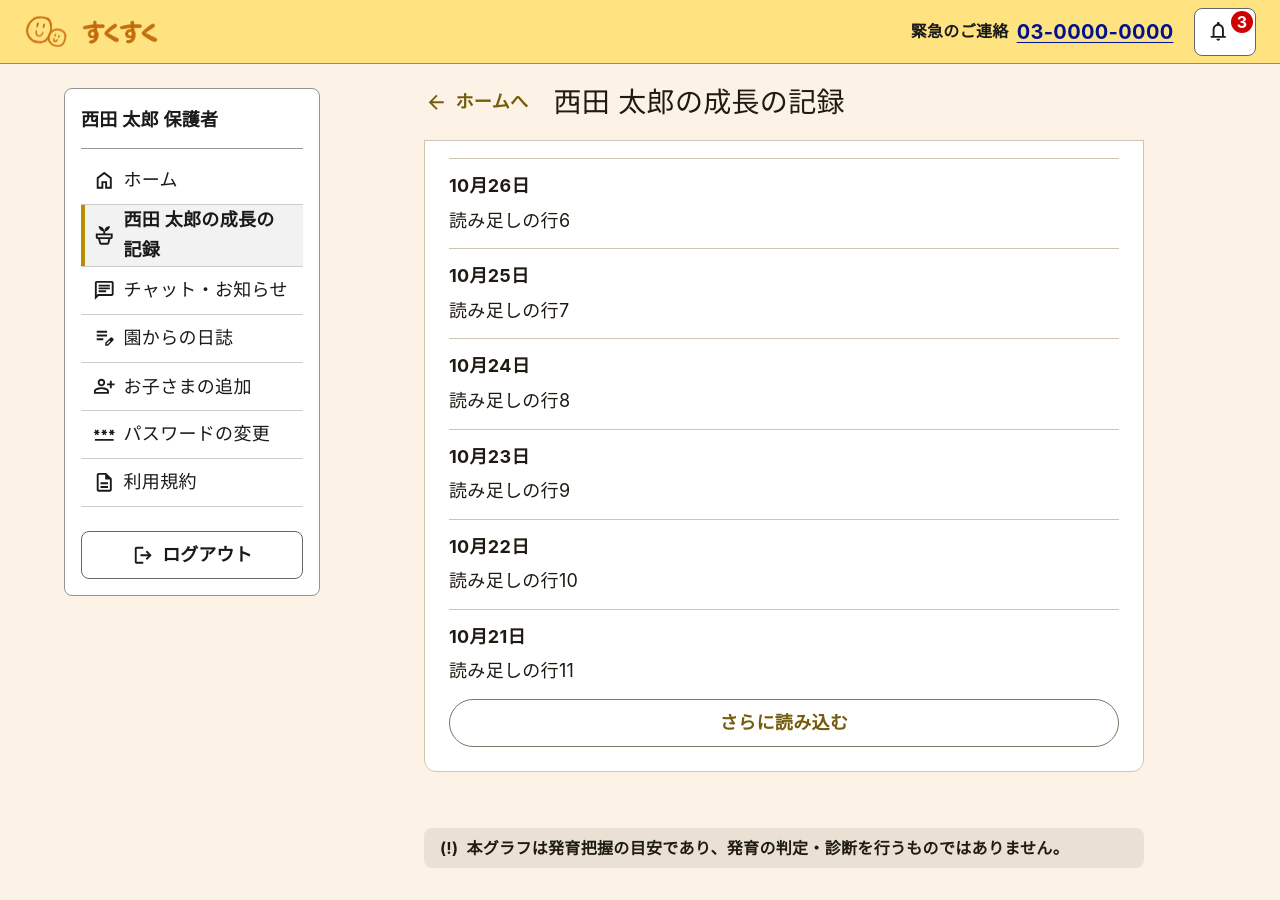
Scenario: 成長の記録画面（保護者） › 12件を超えると「さらに読み込む」で下に足し、続きが無くなると消える
This screenshot has width=1280, height=900.
(page scrolled)
Click the button "さらに読み込む" at (784, 723), box x1=449 y1=699 x2=1119 y2=747
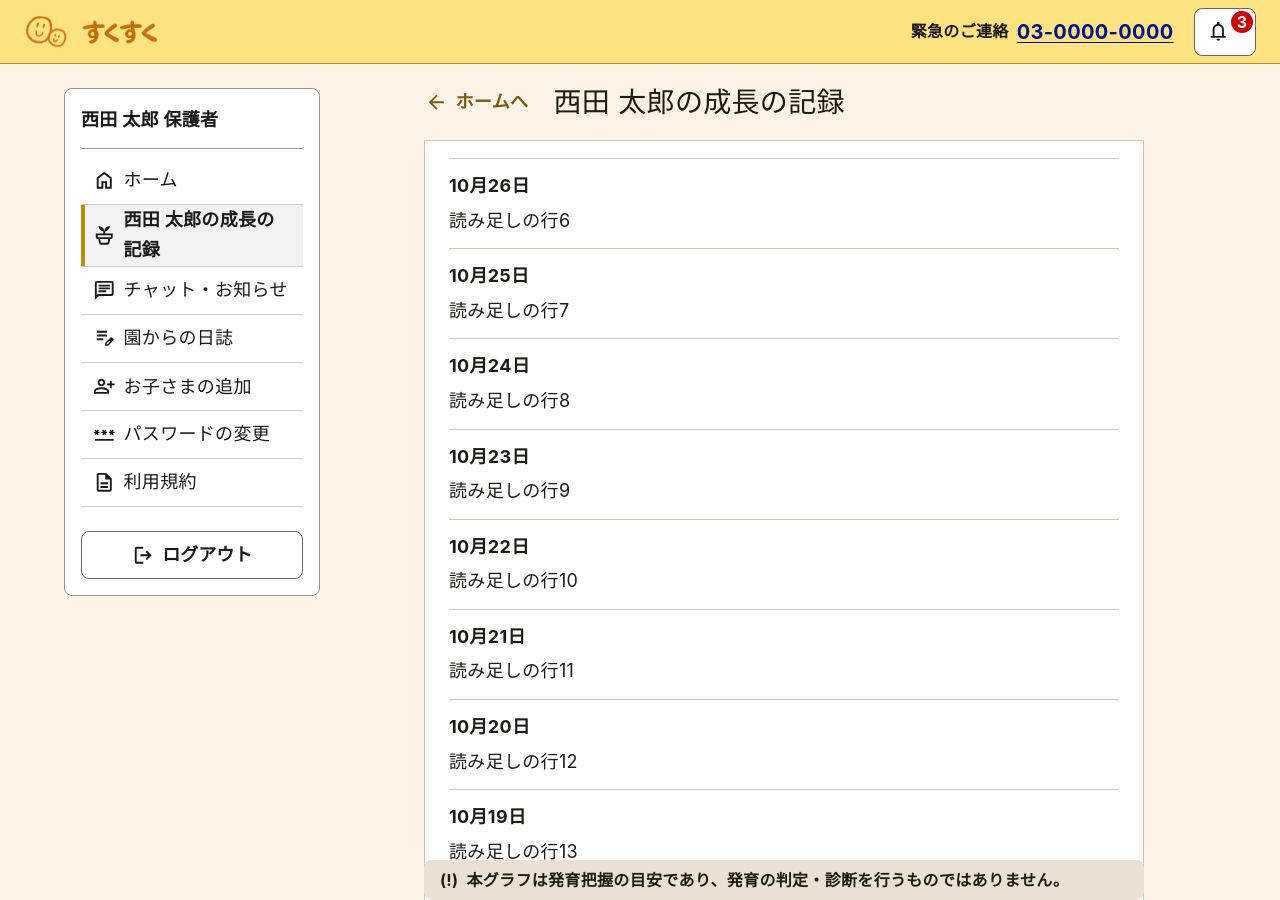
expect the text "読み足しの行13" is shown: met, box x1=449 y1=841 x2=578 y2=862
expect the button "さらに読み込む" is gone: met
